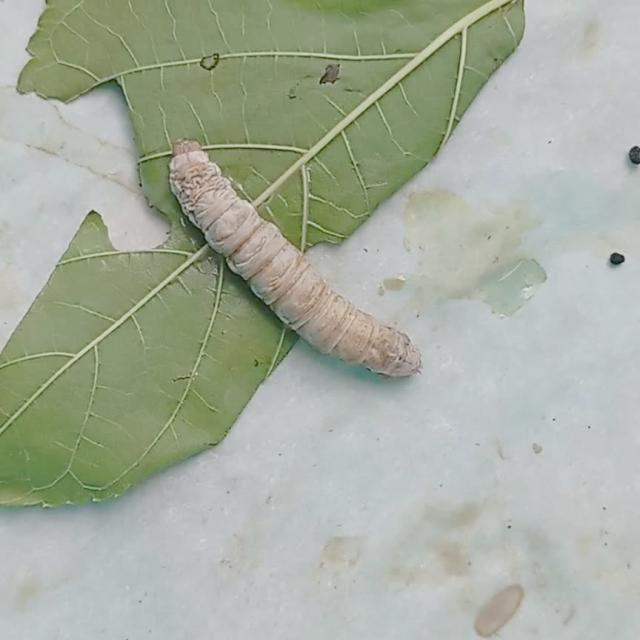Grasserie: (140, 122, 442, 404)
